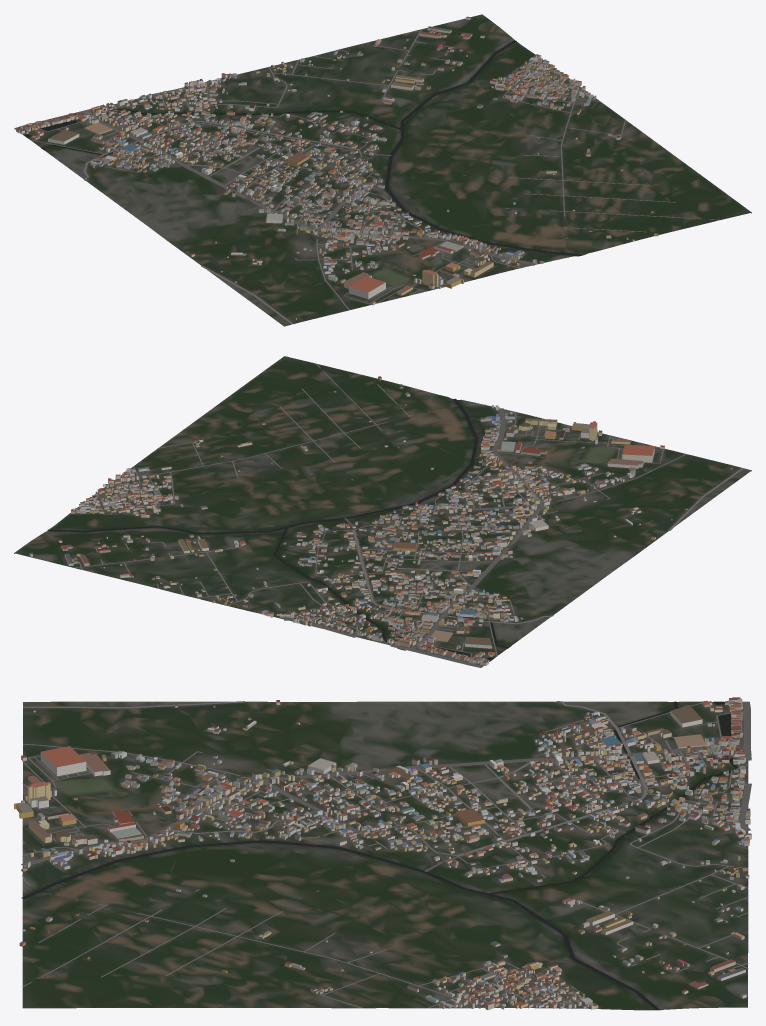
3 renders of one model, top to bottom at view 1: azimuth 30°, elevation 25°; view 2: azimuth 150°, elevation 25°; view 3: azimuth 270°, elevation 25°, orthographic. The views are drawn at different scales.
Visible parts, largest first — view 1: ground, buildings, roads, water; view 2: ground, buildings, roads, water; view 3: ground, buildings, roads, water.
Part boxes in pixels (left/top/right/bottom): ground: left=14, top=14, right=751, bottom=326; buildings: left=16, top=16, right=658, bottom=319; roads: left=14, top=29, right=719, bottom=324; water: left=24, top=40, right=581, bottom=255; ground: left=14, top=356, right=751, bottom=666; buildings: left=29, top=376, right=732, bottom=665; roads: left=72, top=363, right=743, bottom=667; water: left=47, top=398, right=508, bottom=660; ground: left=22, top=701, right=748, bottom=1010; buildings: left=14, top=697, right=751, bottom=1010; roads: left=21, top=701, right=751, bottom=1008; water: left=21, top=701, right=737, bottom=1010.
Size of the model in its own units: 1415 by 43.61 by 1426.
